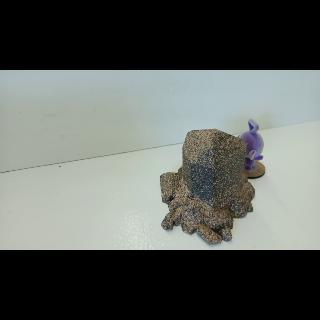teletubby: (238, 119, 263, 172)
